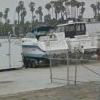Boat: (20, 20, 99, 75)
